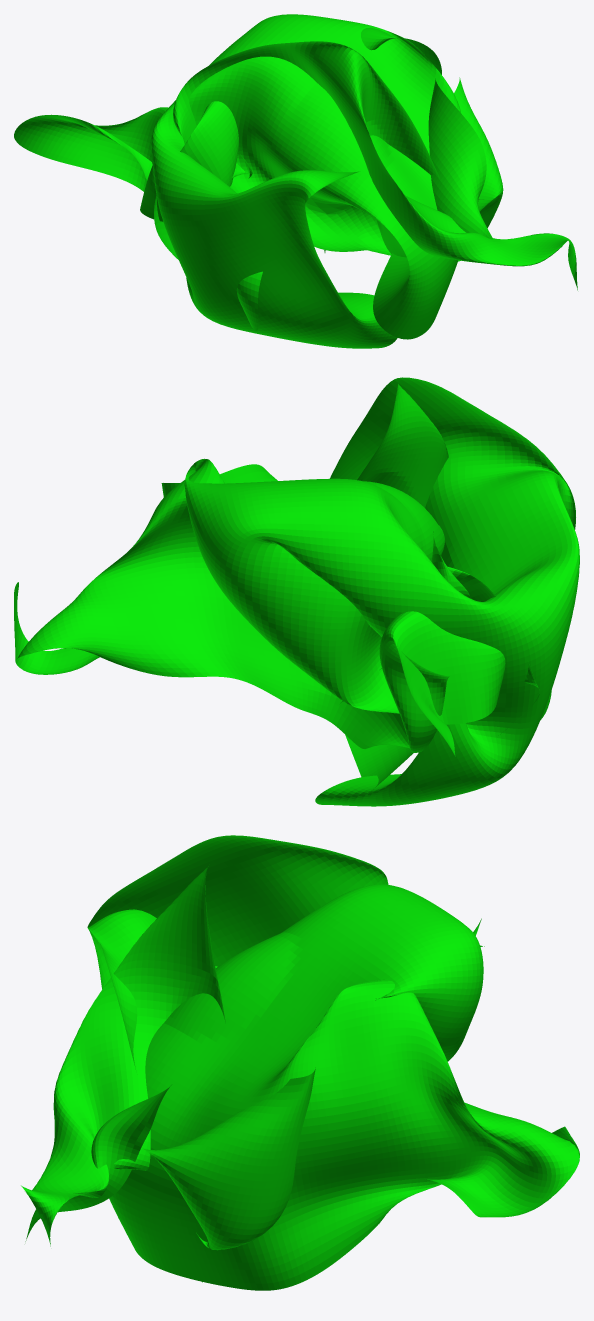
Rendered from paper2.glb.
The picture shows the model from 3 angles, top to bottom: view 1: azimuth 30°, elevation 25°; view 2: azimuth 150°, elevation 25°; view 3: azimuth 270°, elevation 25°; orthographic projection. The views are drawn at different scales.
Parts seen in each view (by area): view 1: Plane; view 2: Plane; view 3: Plane.
Boxes of the visible parts, x1,y1,x2,y2 form: Plane: (14,14,577,348); Plane: (14,377,579,806); Plane: (21,835,579,1290).
Bounding box in the file's own units: 157 × 122 × 148.
Materials: 1 (1 with a texture image).
